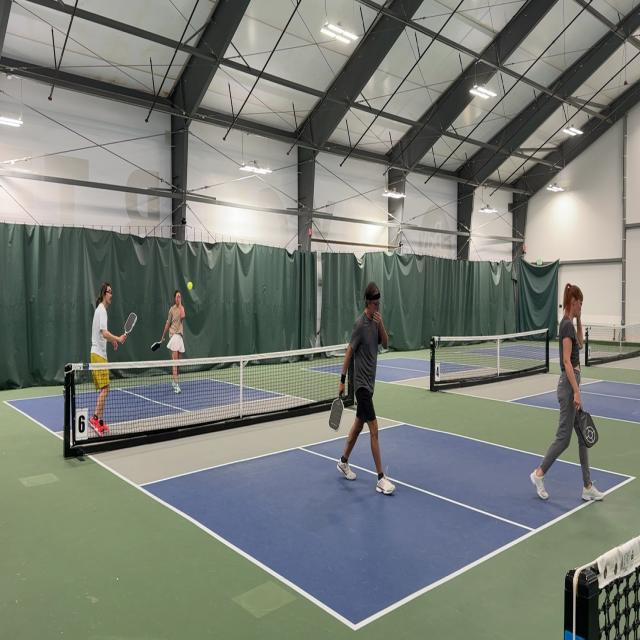ball: (187, 281, 193, 291)
